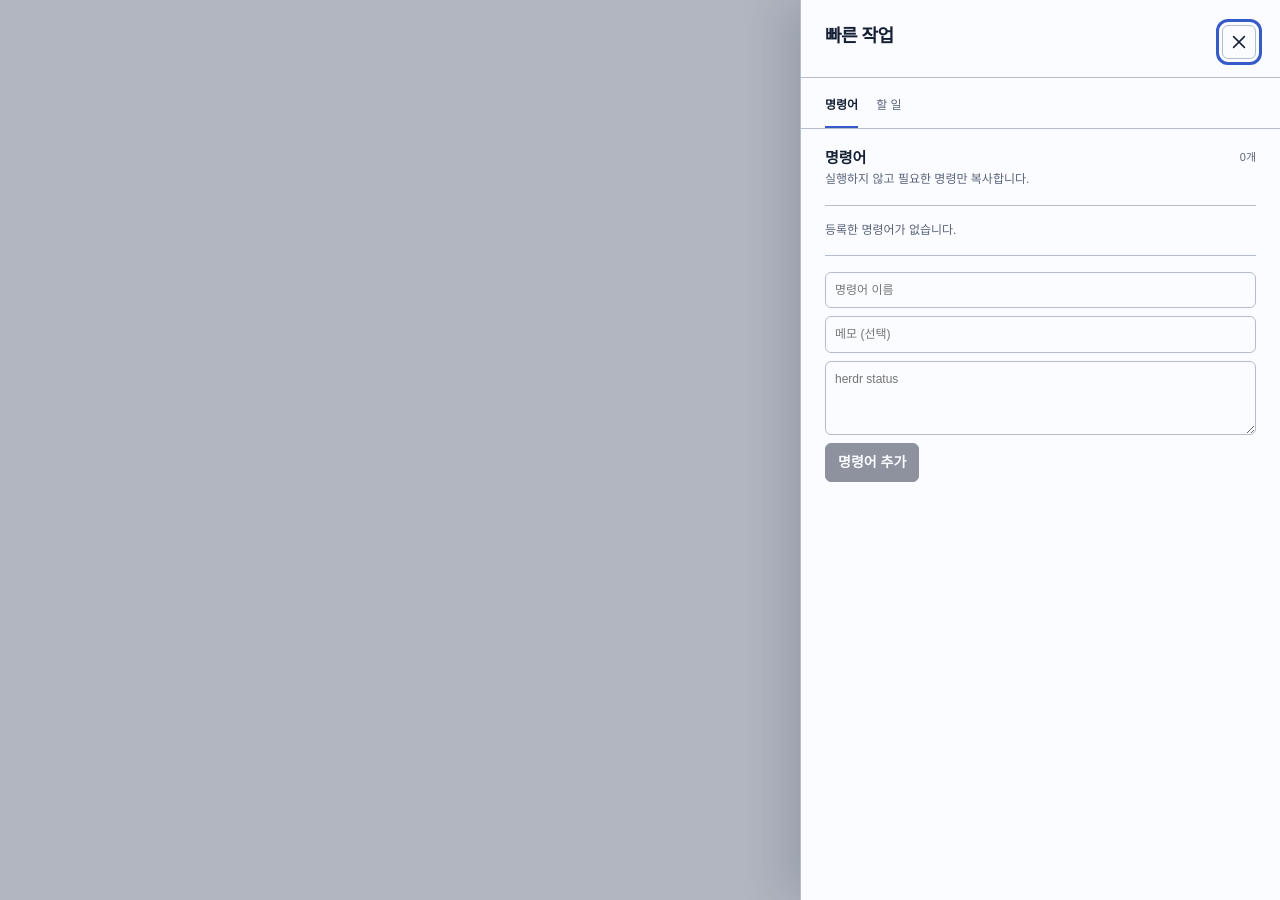
Test case: GlobalToolboxDrawer › switches between all, common, and project todo filters
Click the tab "할 일" at (889, 112), box 876,96 -> 902,128
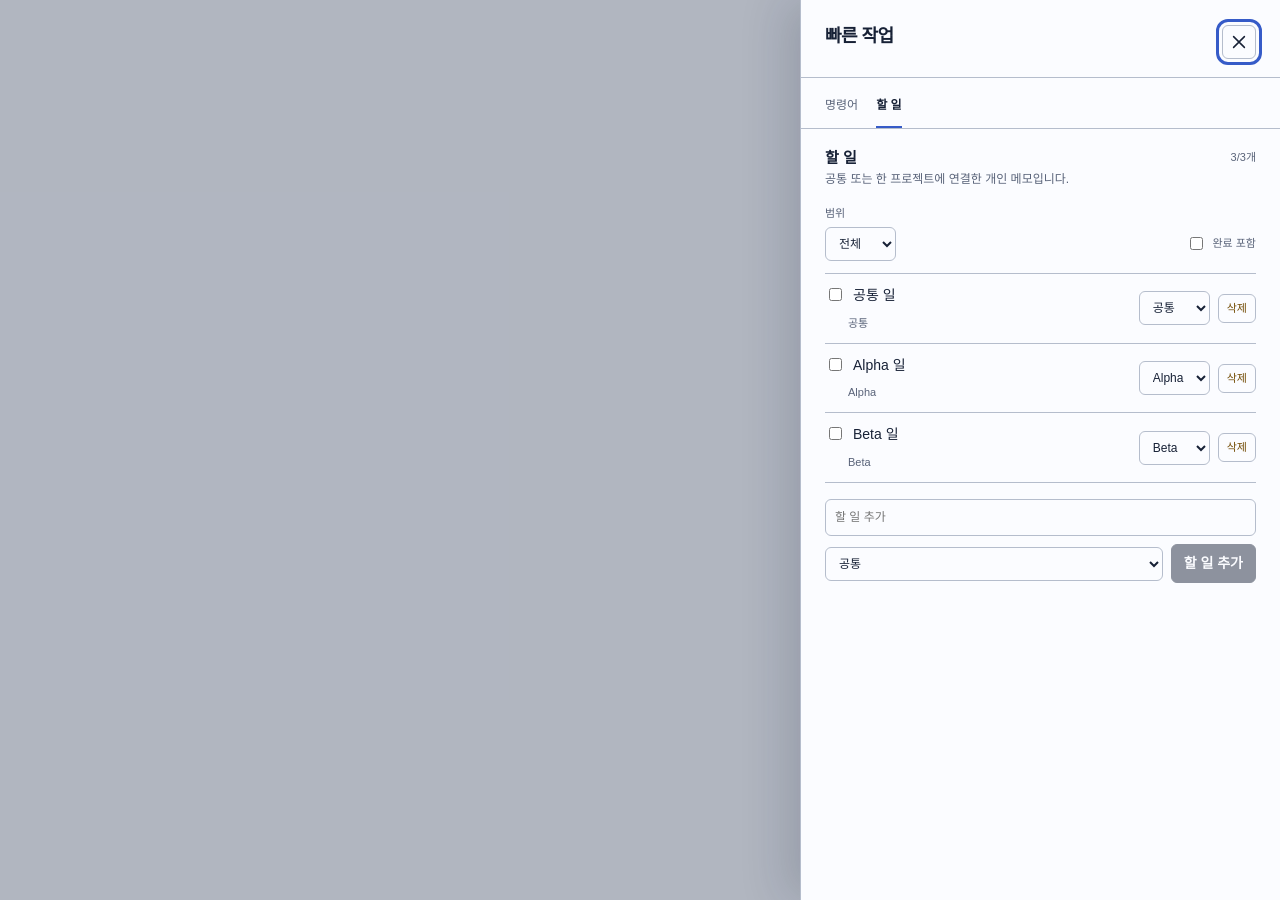
Now the text "공통 일" is shown, box 853,285 -> 896,307
Now the text "Alpha 일" is shown, box 853,355 -> 906,376
Now the text "Beta 일" is shown, box 853,424 -> 899,446
Select "공통" in the dropdown named "할 일 범위" at (860, 244), box 825,227 -> 896,261
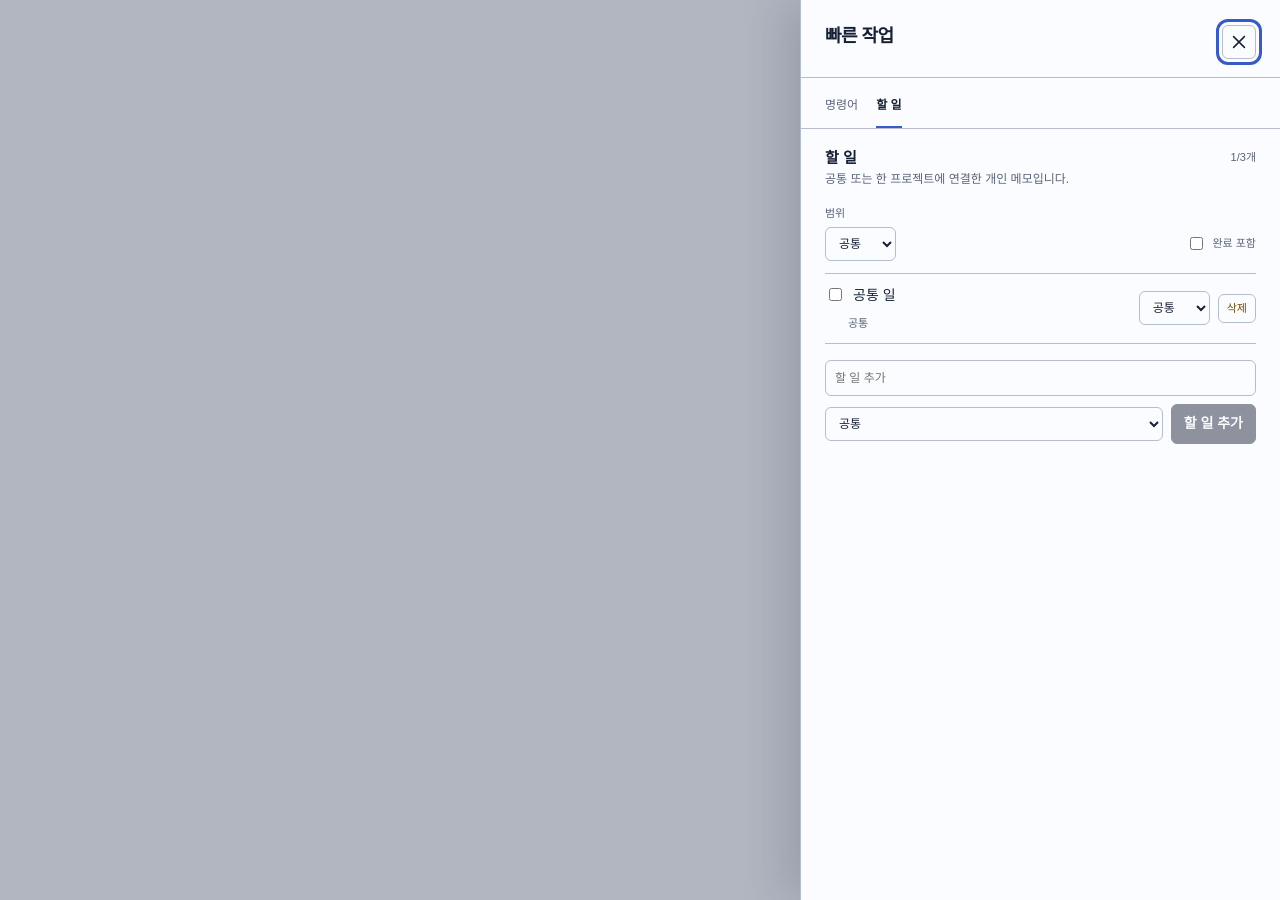
Now the text "공통 일" is shown, box 853,285 -> 896,307
Now the text "Alpha 일" is gone
Select "Alpha" in the dropdown named "할 일 범위" at (860, 244), box 825,227 -> 896,261
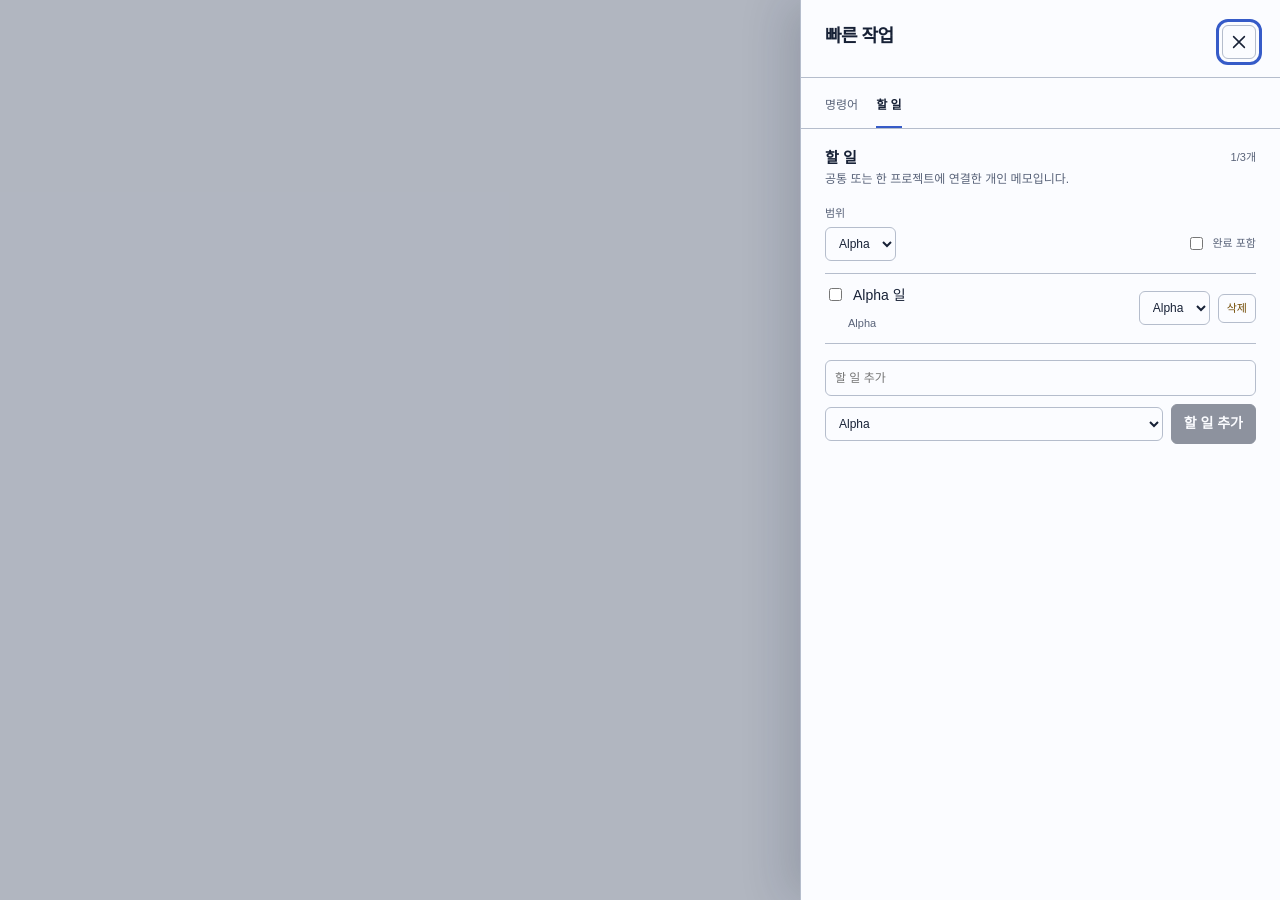
Now the text "Alpha 일" is shown, box 853,285 -> 906,307
Now the text "공통 일" is gone
